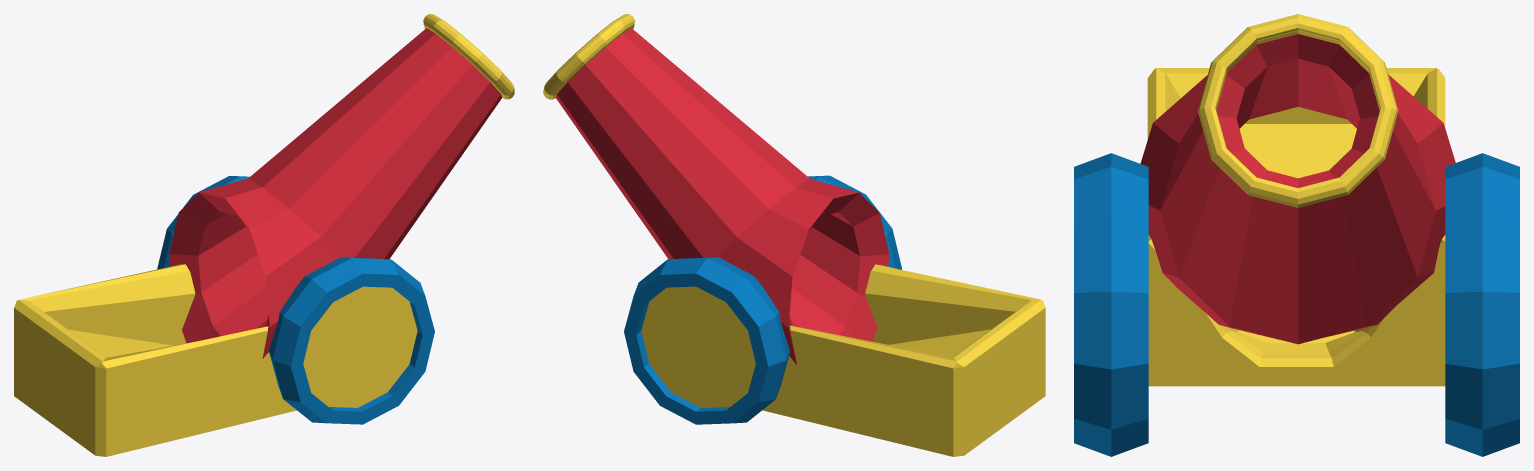
Rendered from cannon.fbx.
The picture shows the model from 3 angles, left to right: view 1: azimuth 30°, elevation 25°; view 2: azimuth 150°, elevation 25°; view 3: azimuth 270°, elevation 25°; orthographic projection. The views are drawn at different scales.
Parts seen in each view (by area): view 1: Cylinder.001; view 2: Cylinder.001; view 3: Cylinder.001.
Part boxes in pixels (<box>): Cylinder.001: <box>14,14,514,456</box>; Cylinder.001: <box>543,14,1045,456</box>; Cylinder.001: <box>1074,14,1519,456</box>.
Size of the model in its own units: 1004 by 697 by 516.
